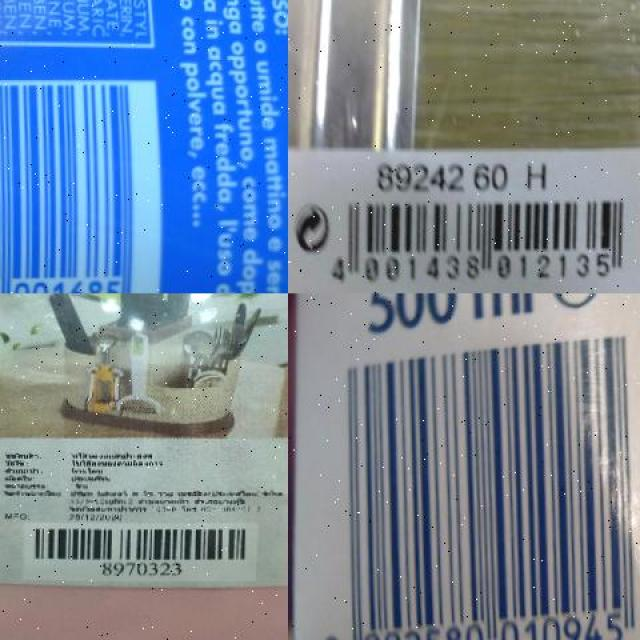Barcode: (304, 325, 640, 640), (288, 147, 640, 293), (0, 70, 168, 294), (26, 521, 257, 583)
